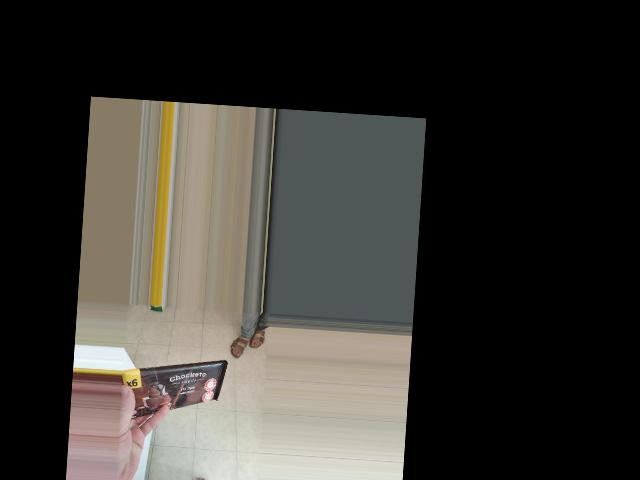chocolate: (117, 345, 230, 438)
